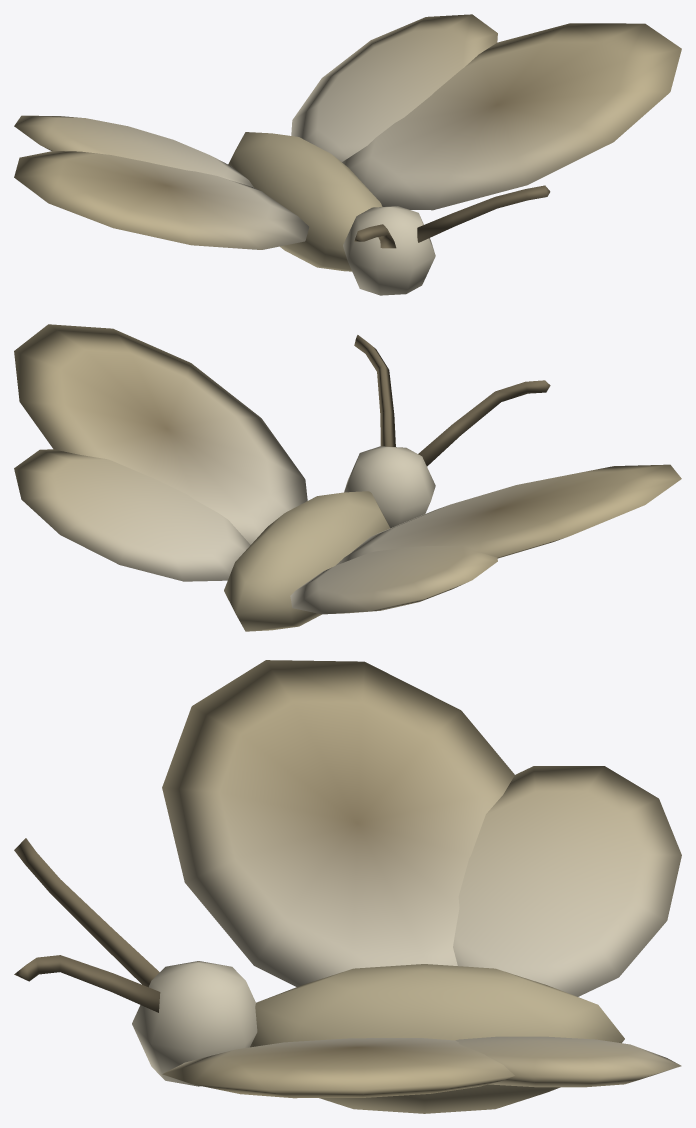
Rendered from moth.glb.
3 renders of one model, top to bottom at view 1: azimuth 30°, elevation 25°; view 2: azimuth 150°, elevation 25°; view 3: azimuth 270°, elevation 25°, orthographic. The views are drawn at different scales.
Visible parts, largest first — view 1: wing_L, wing_R, moth; view 2: wing_L, wing_R, moth; view 3: wing_R, moth, wing_L.
Part boxes in pixels (<box>): wing_L: <box>291,14,681,210</box>; wing_R: <box>14,115,309,249</box>; moth: <box>228,132,550,295</box>; wing_L: <box>14,324,307,581</box>; wing_R: <box>290,464,681,614</box>; moth: <box>224,335,550,631</box>; wing_R: <box>162,660,681,996</box>; moth: <box>14,838,624,1113</box>; wing_L: <box>162,1036,681,1098</box>.
Size of the model in its own units: 0.1216 by 0.0306 by 0.0799.
